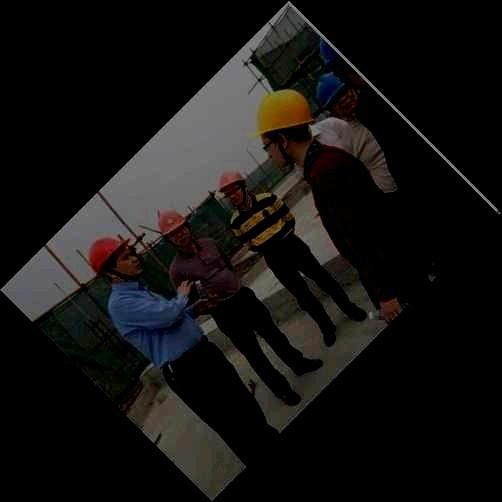helmet: (248, 87, 315, 167), (87, 237, 144, 280), (316, 71, 359, 117), (158, 208, 191, 247), (217, 170, 247, 207)
